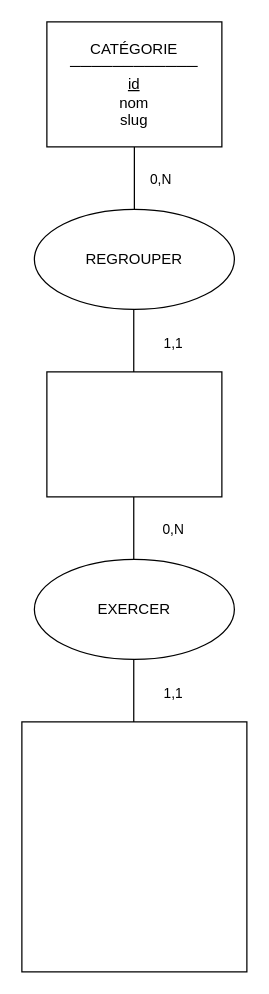
The diagram is 269 pixels wide and 994 high, and some of its shapes have lost their labels. The centre of each missing label's shape, as x and y in pixels:
"ARTISAN ──────────── id slug nom note ville apropos email site_web top" belongs at pixel 134 846.
"SPÉCIALITÉ ──────────── id nom" belongs at pixel 134 434.
